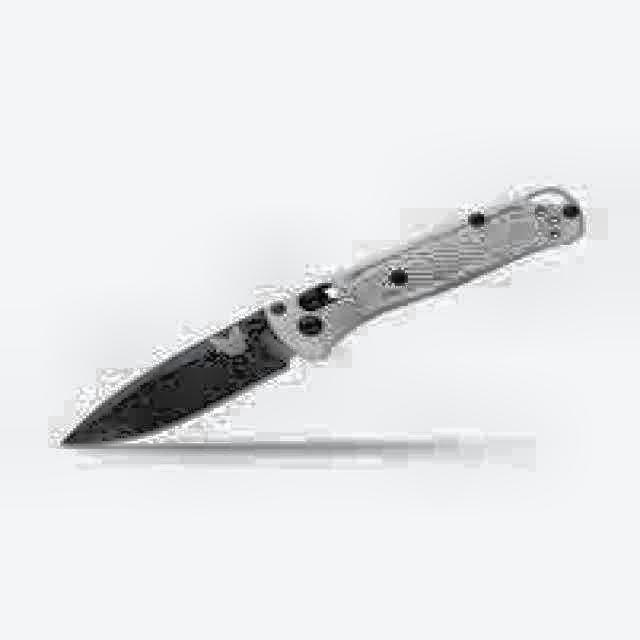knife: (56, 188, 586, 454)
